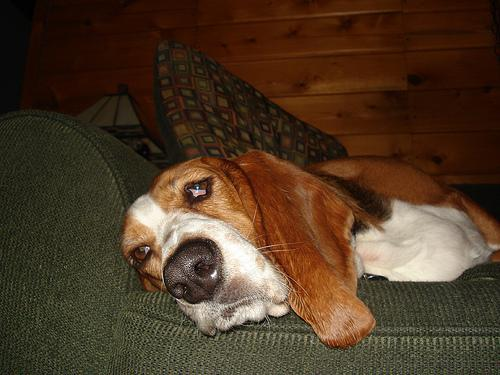dog-basset_hound: (121, 147, 374, 344)
